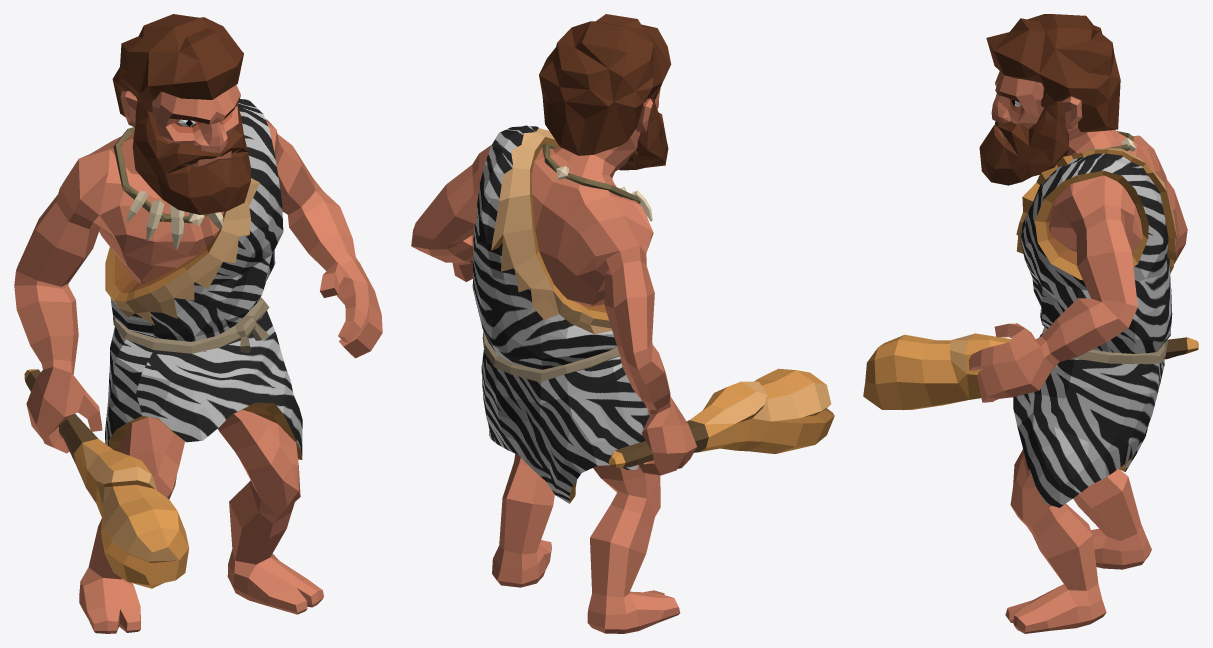
File: fighter.glb
3 renders of one model, left to right at view 1: azimuth 30°, elevation 25°; view 2: azimuth 150°, elevation 25°; view 3: azimuth 270°, elevation 25°, orthographic. The views are drawn at different scales.
Visible parts, largest first — view 1: _Caveman_03; view 2: _Caveman_03; view 3: _Caveman_03.
Part boxes in pixels (x1,y1,x2,y2): _Caveman_03: (14,14,382,633); _Caveman_03: (411,14,834,633); _Caveman_03: (863,14,1198,633).
Bounding box in the file's own units: 1.08 × 1.87 × 1.01.
1 material, 1 textured.
